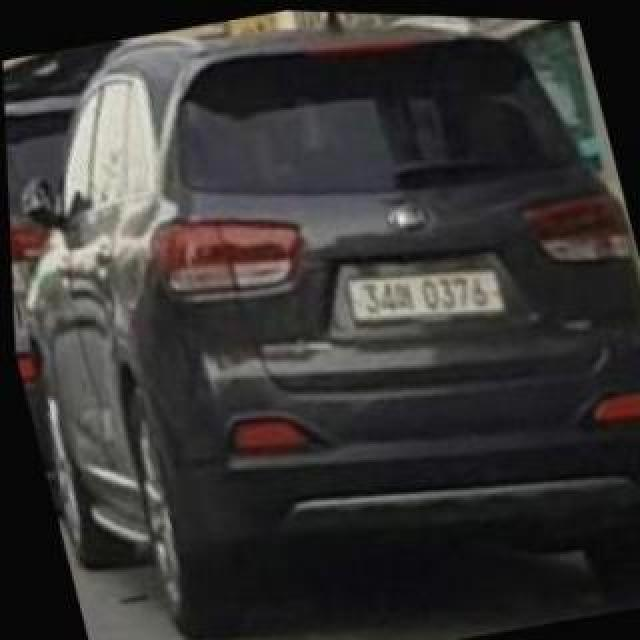car: (20, 25, 639, 628)
illegal_plate: (346, 265, 500, 329)
